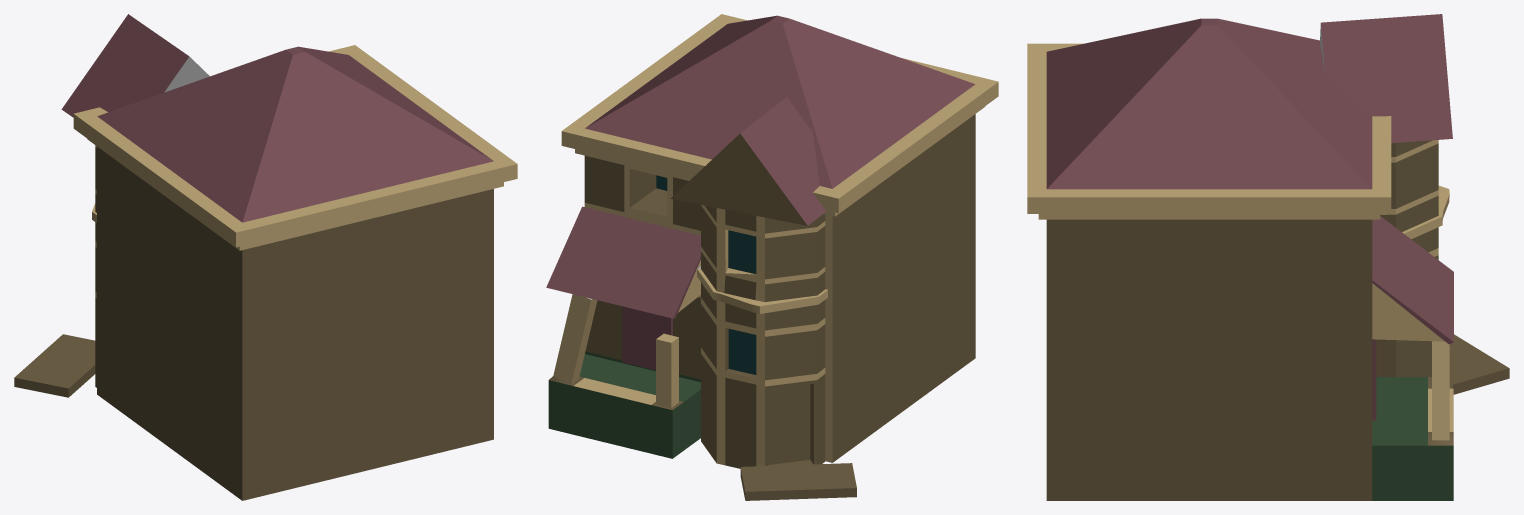
File: House.fbx
3 renders of one model, left to right at view 1: azimuth 30°, elevation 25°; view 2: azimuth 150°, elevation 25°; view 3: azimuth 270°, elevation 25°, orthographic. The views are drawn at different scales.
Parts seen in each view (by area): view 1: group5; view 2: group5; view 3: group5.
Boxes of the visible parts, x1,y1,x2,y2 form: group5: [14, 14, 517, 500]; group5: [546, 14, 998, 500]; group5: [1027, 14, 1509, 500].
Bounding box in the file's own units: 10.18 × 11.13 × 11.85.
